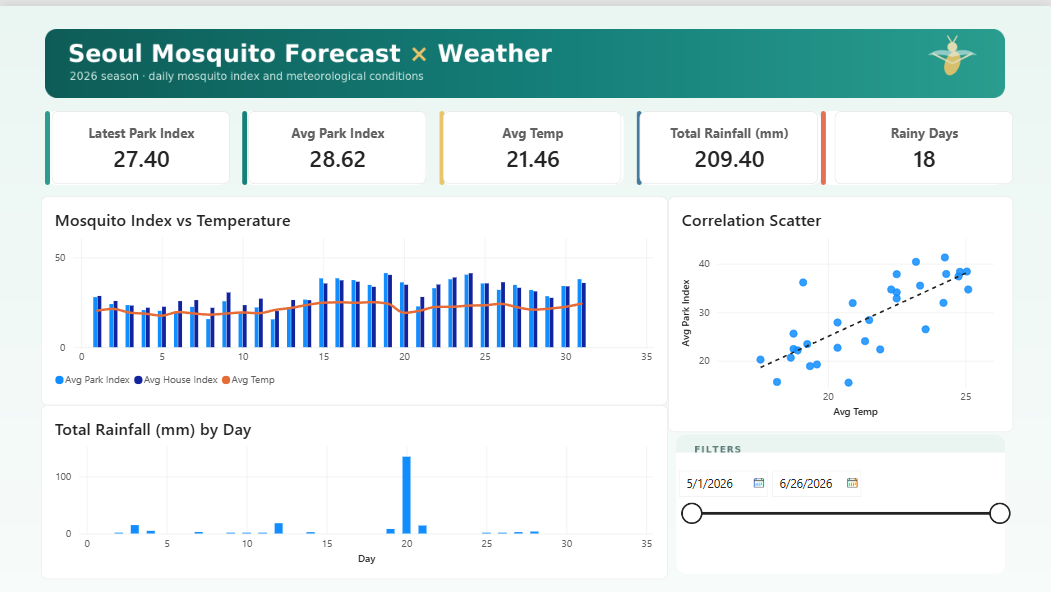

This screenshot's page, from the dashboard's own definition file:
{"tool":"powerbi","page":{"name":"Page 1","canvas":[1280,720],"ordinal":0},"visuals":[{"type":"cardVisual","fields":{"Data":["dim_date.Latest Park Index"]},"box":[63.9,127.8,217.2,89.4],"z":0},{"type":"cardVisual","fields":{"Data":["dim_date.Avg Park Index"]},"box":[302.1,127.8,217.2,89.4],"z":1},{"type":"cardVisual","fields":{"Data":["dim_date.Avg Temp"]},"box":[540.2,127.8,217.2,89.4],"z":2},{"type":"cardVisual","fields":{"Data":["dim_date.Total Rainfall (mm)"]},"box":[778.4,127.8,217.2,89.4],"z":3},{"type":"cardVisual","fields":{"Data":["dim_date.Rainy Days"]},"box":[1016.6,127.8,217.2,89.4],"z":4},{"type":"lineClusteredColumnComboChart","title":"Mosquito Index vs Temperature ","fields":{"Category":["dim_date.Date.Variation.Date Hierarchy.Year","dim_date.Date.Variation.Date Hierarchy.Quarter","dim_date.Date.Variation.Date Hierarchy.Month","dim_date.Date.Variation.Date Hierarchy.Day"],"Y":["dim_date.Avg Park Index","dim_date.Avg House Index"],"Y2":["dim_date.Avg Temp"]},"box":[51.1,231.8,762.9,253.7],"z":5},{"type":"scatterChart","title":"Correlation Scatter","fields":{"Category":["dim_date.Date.Variation.Date Hierarchy.Day"],"X":["dim_date.Avg Temp"],"Y":["dim_date.Avg Park Index"]},"box":[814,231.8,419.8,286.5],"z":6},{"type":"clusteredColumnChart","fields":{"Category":["dim_date.Date.Variation.Date Hierarchy.Day"],"Y":["dim_date.Total Rainfall (mm)"]},"box":[51.1,485.5,762.9,211.7],"z":7},{"type":"slicer","fields":{"Values":["dim_date.Date"]},"box":[819.5,560.3,414.3,98.6],"z":8}]}

Visuals, with their boxes in screenshot pixels (x1, y1, x2, y2), scaled from the page's 1280x720 canvas onto the 1051x592 screenshot:
cardVisual - dim_date.Latest Park Index: crop(52, 105, 231, 179)
cardVisual - dim_date.Avg Park Index: crop(248, 105, 426, 179)
cardVisual - dim_date.Avg Temp: crop(444, 105, 622, 179)
cardVisual - dim_date.Total Rainfall (mm): crop(639, 105, 817, 179)
cardVisual - dim_date.Rainy Days: crop(835, 105, 1013, 179)
"Mosquito Index vs Temperature " lineClusteredColumnComboChart: crop(42, 191, 668, 399)
"Correlation Scatter" scatterChart: crop(668, 191, 1013, 426)
clusteredColumnChart - dim_date.Date.Variation.Date Hierarchy.Day x dim_date.Total Rainfall (mm): crop(42, 399, 668, 573)
slicer - dim_date.Date: crop(673, 461, 1013, 542)
